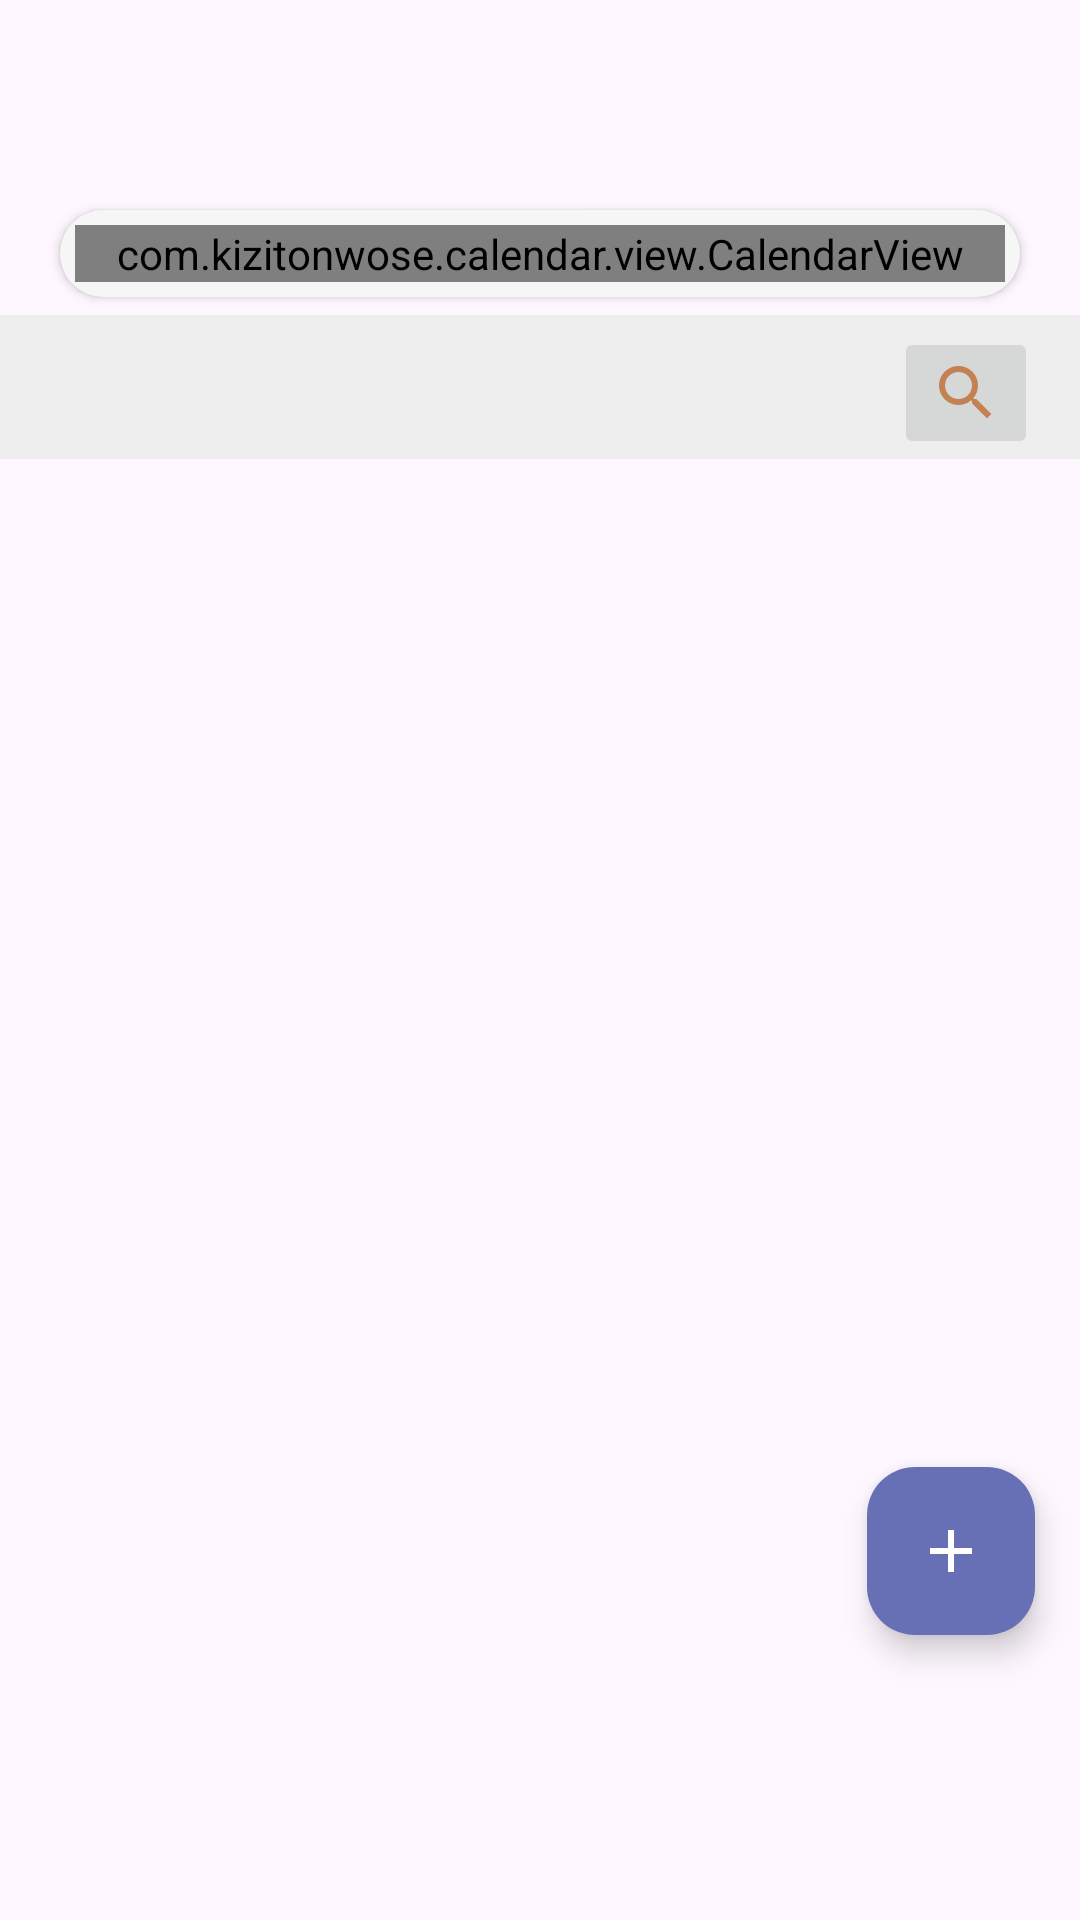

Where to tap for icons on this 1080 x 1920 app screen, as (x,y):
add: (951,1551)
search: (966,393)
